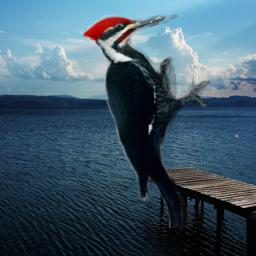Woodpecker: (83, 11, 211, 228)
